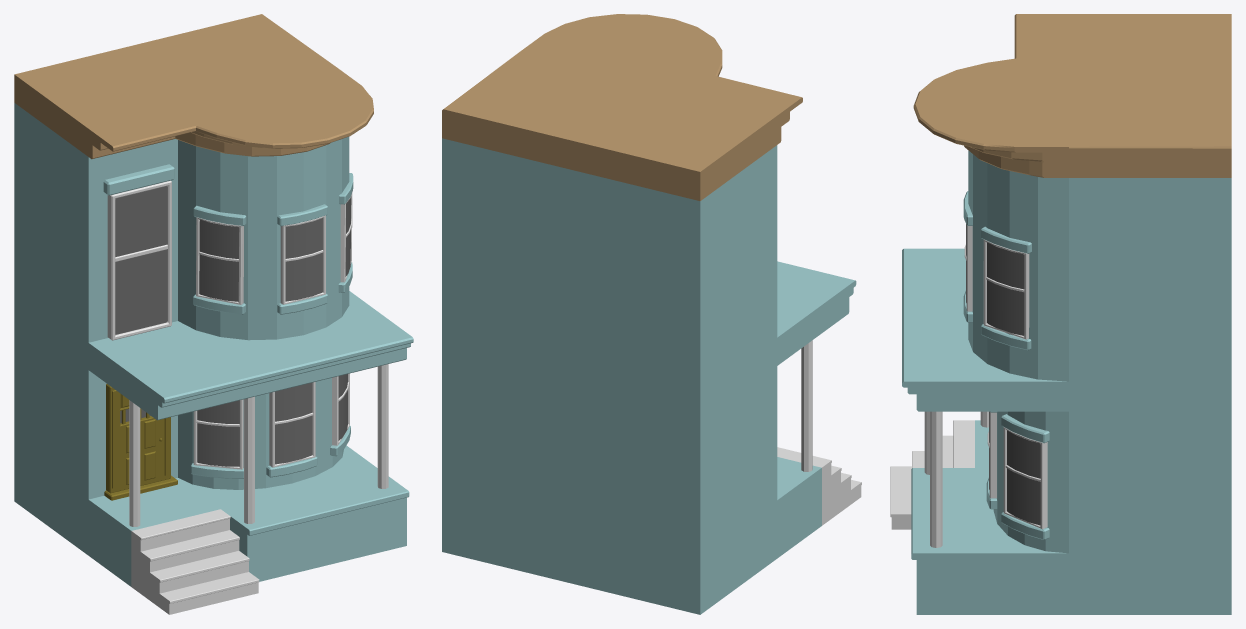
Rendered from lightBlueHouse.fbx.
The picture shows the model from 3 angles, left to right: view 1: azimuth 30°, elevation 25°; view 2: azimuth 150°, elevation 25°; view 3: azimuth 270°, elevation 25°; orthographic projection. The views are drawn at different scales.
Visible parts, largest first — view 1: polySurface4; view 2: polySurface4; view 3: polySurface4.
Boxes of the visible parts, x1,y1,x2,y2 form: polySurface4: [14, 14, 413, 614]; polySurface4: [442, 14, 861, 614]; polySurface4: [890, 14, 1231, 614].
Bounding box in the file's own units: 5.03 × 8.2 × 5.42.
